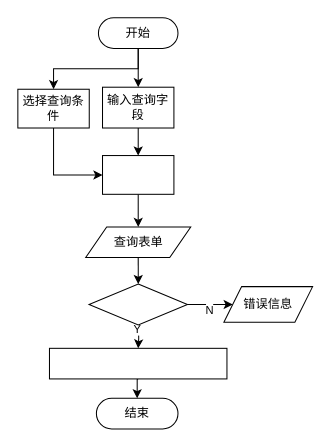
This 330x447 diagram has some shape labels left out. Each missing label, with the box of its shape:
更新停车记录列表: (48, 347, 227, 379)
查询请求成功: (88, 283, 187, 325)
点击查询按钮: (101, 155, 174, 194)
